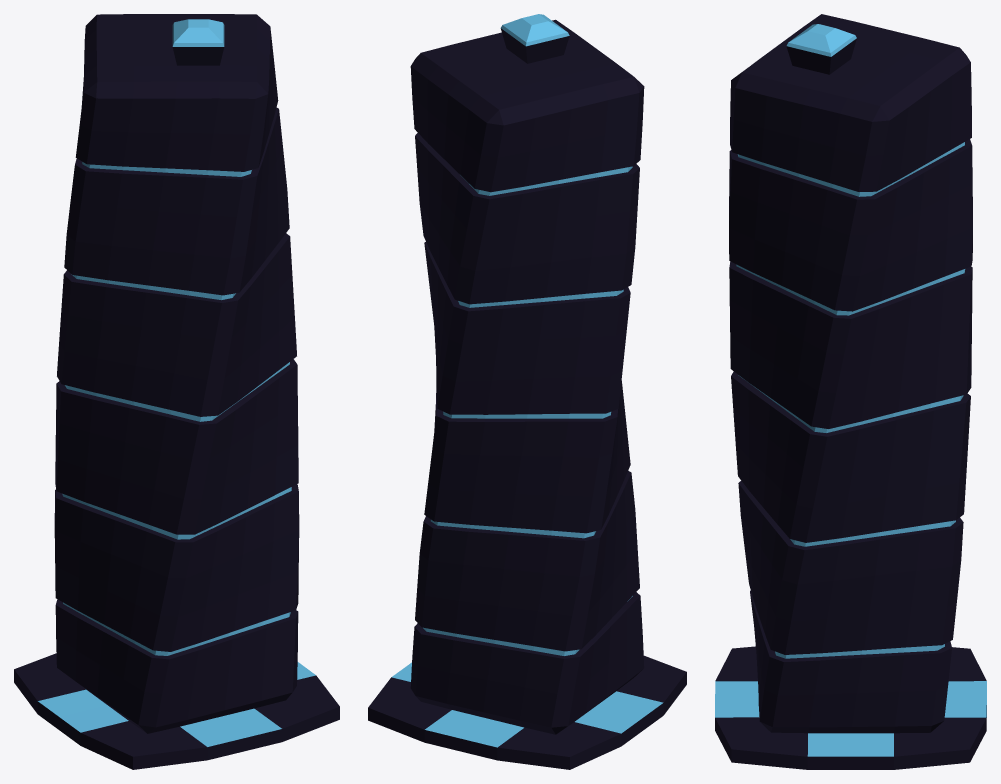
File: House3.fbx
The picture shows the model from 3 angles, left to right: view 1: azimuth 30°, elevation 25°; view 2: azimuth 150°, elevation 25°; view 3: azimuth 270°, elevation 25°; orthographic projection. The views are drawn at different scales.
Parts seen in each view (by area): view 1: House3; view 2: House3; view 3: House3.
Boxes of the visible parts, x1,y1,x2,y2 form: House3: [14, 14, 339, 769]; House3: [368, 14, 686, 769]; House3: [715, 14, 986, 769].
Size of the model in its own units: 317 by 884 by 317.
